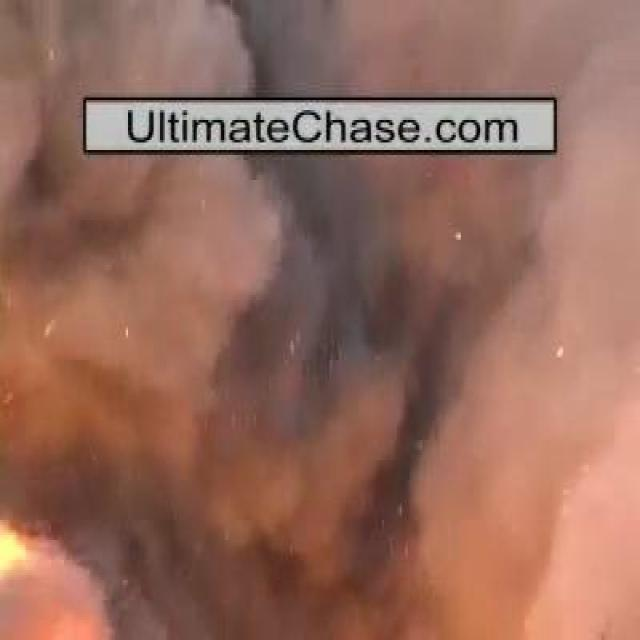Smoke: (30, 162, 568, 586)
